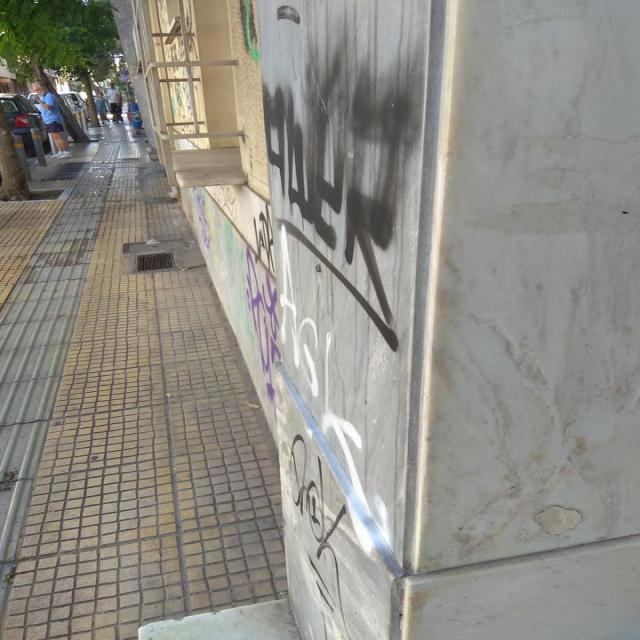nonspitting: (258, 49, 422, 351), (280, 222, 393, 552), (288, 434, 350, 621), (242, 252, 278, 402)
